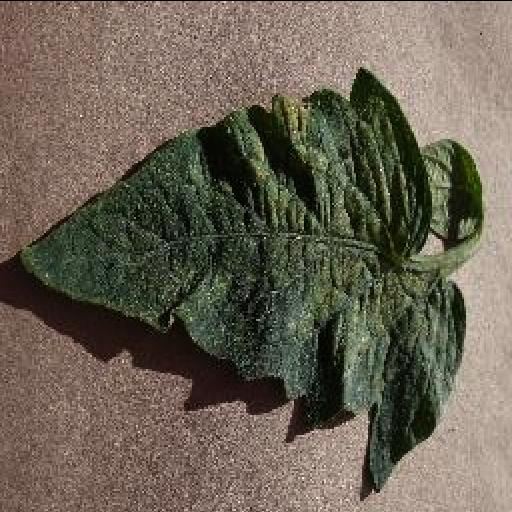disease_tomato: (17, 68, 467, 496)
